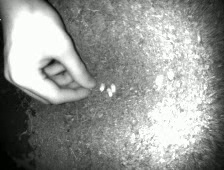corn: (152, 72, 166, 87), (104, 85, 114, 100), (96, 81, 107, 93), (109, 81, 118, 95), (87, 86, 94, 92)
